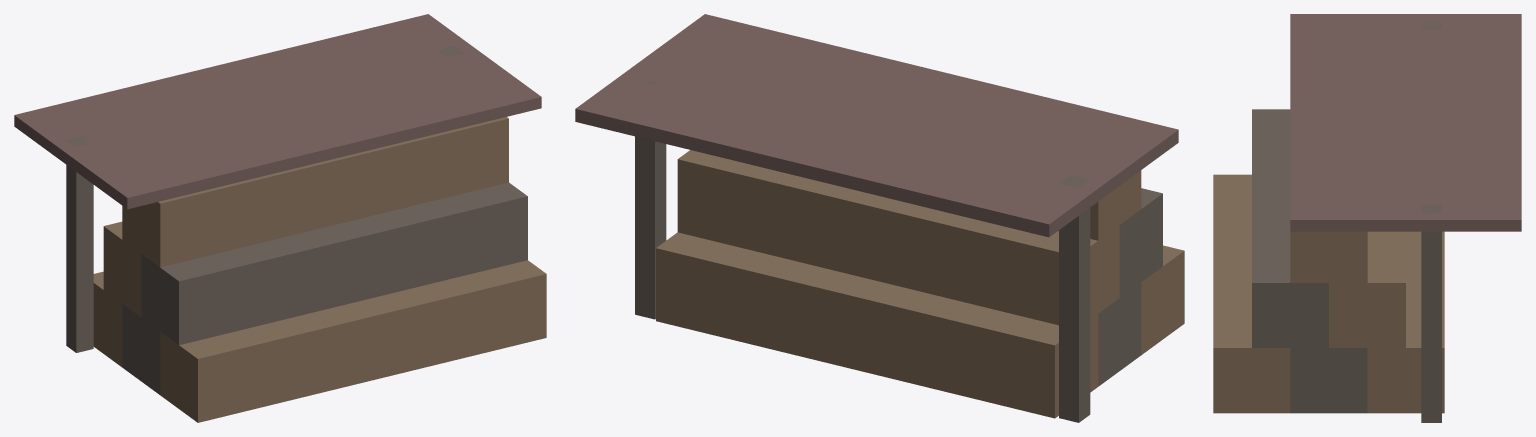
Rendered from woodpile.glb.
3 renders of one model, left to right at view 1: azimuth 30°, elevation 25°; view 2: azimuth 150°, elevation 25°; view 3: azimuth 270°, elevation 25°, orthographic. The views are drawn at different scales.
Parts seen in each view (by area): view 1: woodpile; view 2: woodpile; view 3: woodpile.
Boxes of the visible parts, x1,y1,x2,y2 form: woodpile: (14, 14, 546, 422); woodpile: (575, 14, 1184, 422); woodpile: (1213, 14, 1521, 422).
Size of the model in its own units: 1.9 by 0.9 by 1.2.
